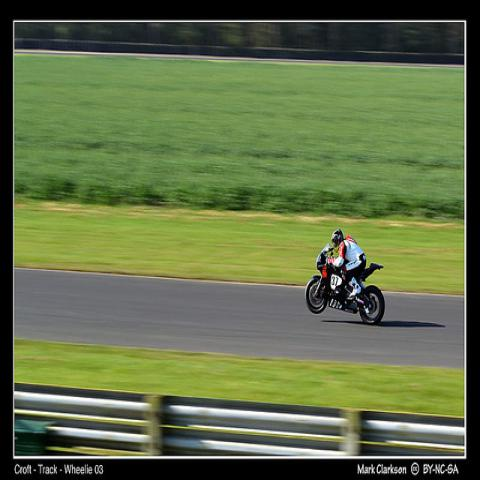motorcycle: (302, 244, 388, 326)
